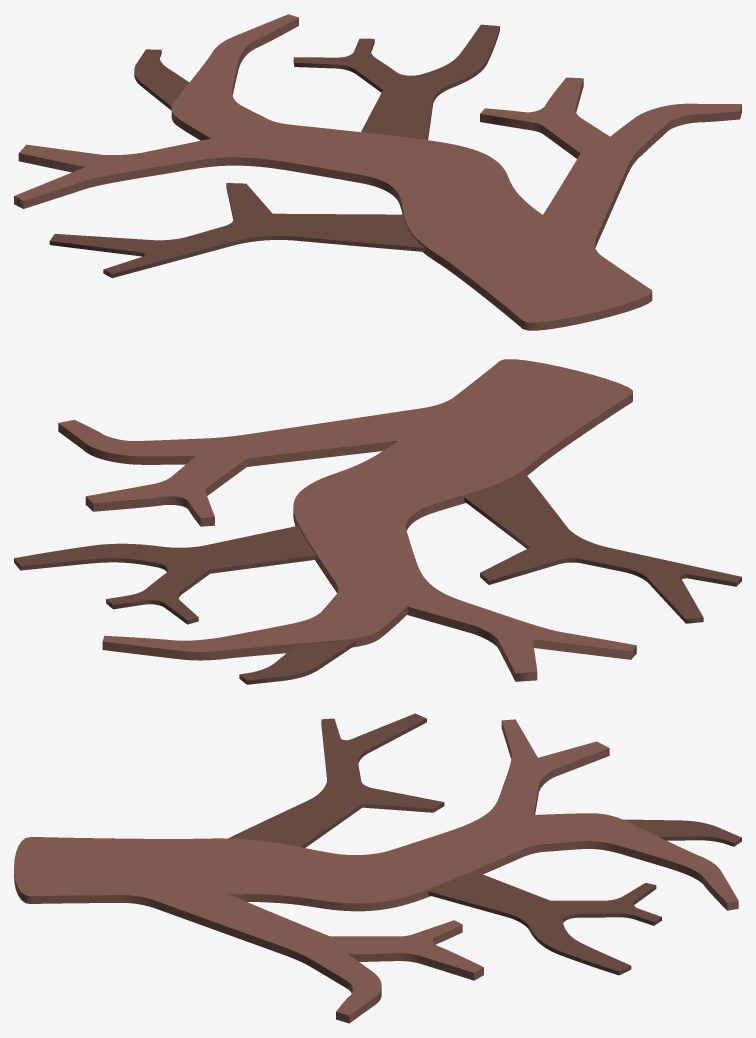
Rendered from emoji_u1fabe.glb.
3 views of the same model, one above another, from view 1: azimuth 30°, elevation 25°; view 2: azimuth 150°, elevation 25°; view 3: azimuth 270°, elevation 25° (orthographic). The views are drawn at different scales.
Parts seen in each view (by area): view 1: emoji_u1fabe; view 2: emoji_u1fabe; view 3: emoji_u1fabe.
Boxes of the visible parts, x1,y1,x2,y2 form: emoji_u1fabe: [14, 14, 741, 330]; emoji_u1fabe: [14, 359, 741, 684]; emoji_u1fabe: [14, 713, 741, 1023].
Size of the model in its own units: 0.0335 by 0.0004 by 0.0338.
